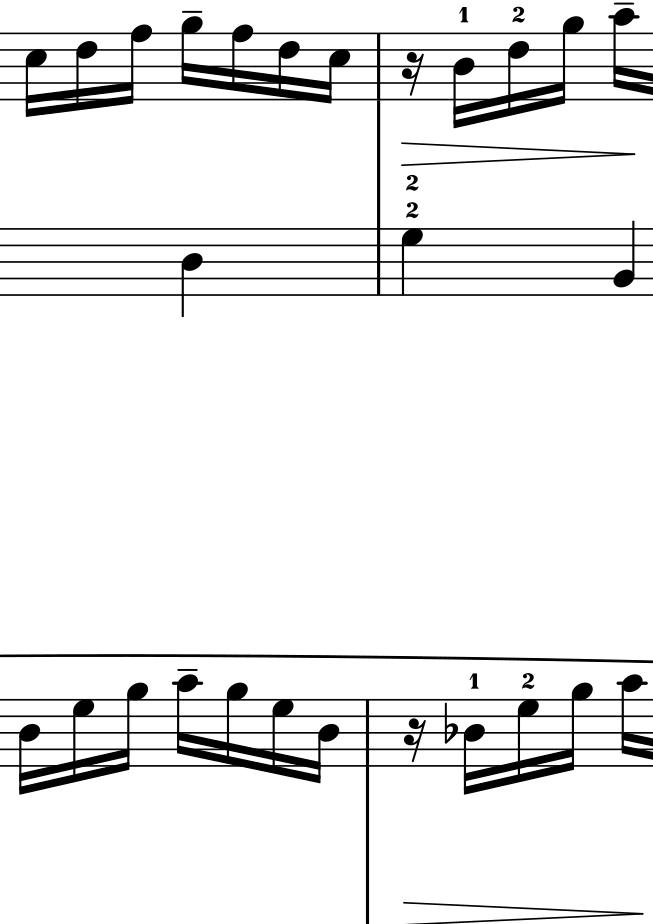16_10: (620, 673, 646, 767), (611, 8, 637, 100), (174, 676, 200, 766)
16_4: (311, 695, 340, 786), (16, 697, 41, 797), (461, 697, 486, 797), (451, 31, 474, 127)
16_5: (319, 32, 351, 105), (23, 31, 48, 119)
16_6: (506, 30, 531, 119), (74, 29, 98, 113), (276, 30, 301, 103)
16_7: (514, 696, 538, 786), (70, 696, 93, 786), (270, 696, 293, 780)
16_8: (120, 24, 151, 106), (230, 24, 254, 102)
16_9: (551, 14, 585, 110), (116, 680, 149, 774), (561, 679, 591, 776), (179, 11, 202, 107), (224, 681, 247, 770)
4_2: (613, 220, 638, 297)
4_4: (180, 227, 204, 319)
4_7: (400, 229, 425, 297)
Diminuendo_hairpin: (402, 897, 643, 924), (400, 139, 636, 166)
Flat: (442, 700, 457, 746)
Rests16: (401, 51, 425, 97), (403, 717, 427, 763)
Single_barline: (371, 228, 386, 295), (360, 699, 375, 765), (371, 34, 386, 98)
